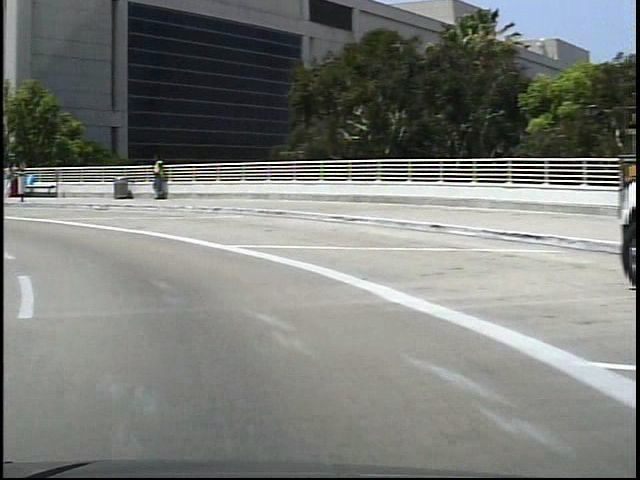person: (144, 153, 164, 204)
